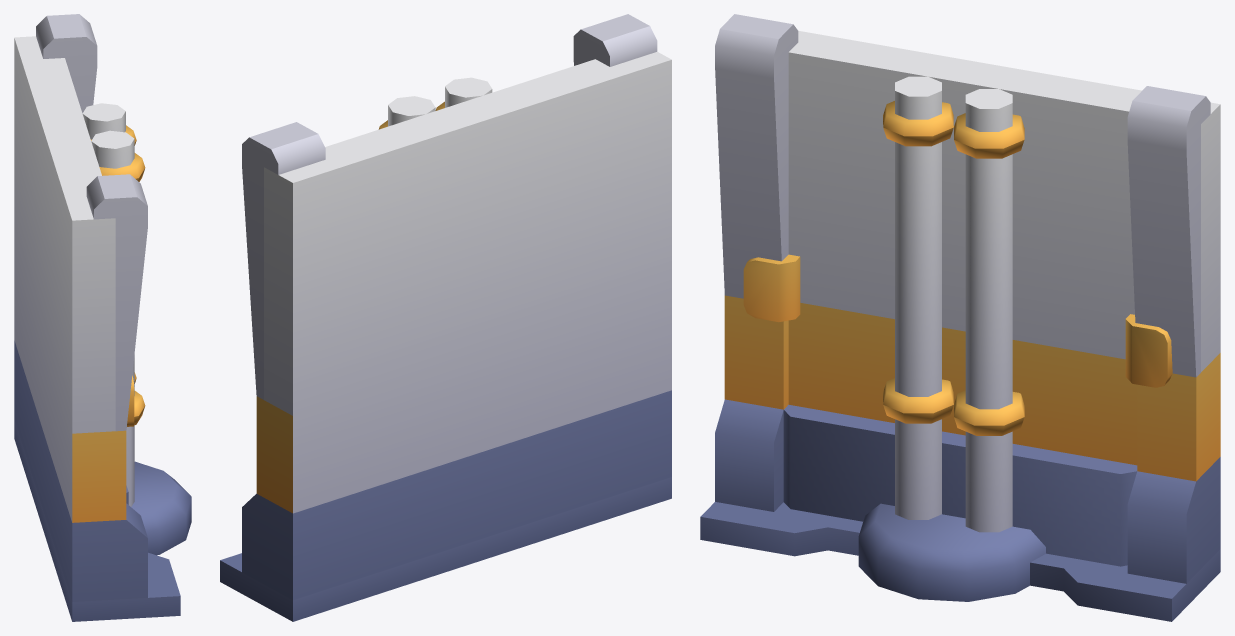
The model's file is template-wall-detail-a.010_lev4.glb.
3 views of the same model, side by side, from view 1: azimuth 30°, elevation 25°; view 2: azimuth 150°, elevation 25°; view 3: azimuth 270°, elevation 25° (orthographic). The views are drawn at different scales.
Parts seen in each view (by area): view 1: template-wall-detail-a.010_lev4; view 2: template-wall-detail-a.010_lev4; view 3: template-wall-detail-a.010_lev4.
Part boxes in pixels (bbox=[...]): template-wall-detail-a.010_lev4: bbox=[14, 14, 191, 621]; template-wall-detail-a.010_lev4: bbox=[220, 14, 671, 621]; template-wall-detail-a.010_lev4: bbox=[700, 14, 1220, 621].
Bounding box in the file's own units: 7.35 × 12.75 × 12.24.
1 material, 1 textured.
